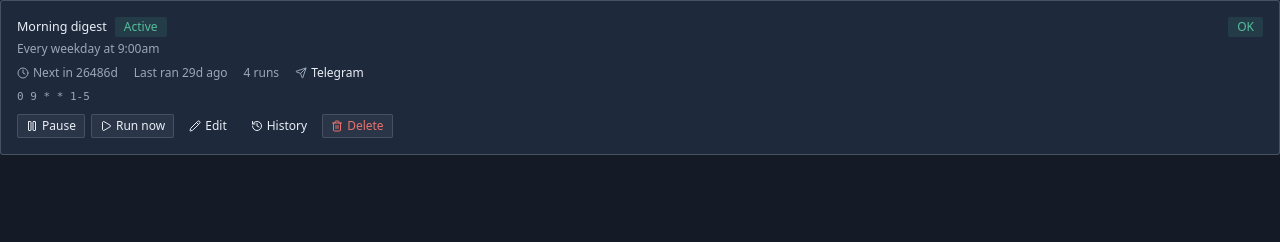
Test: JobCard run history disclosure › shows an error state when the runs fetch fails
Click the button with aria-label "Toggle run history".
click(279, 126)  # box [242,114,316,138]
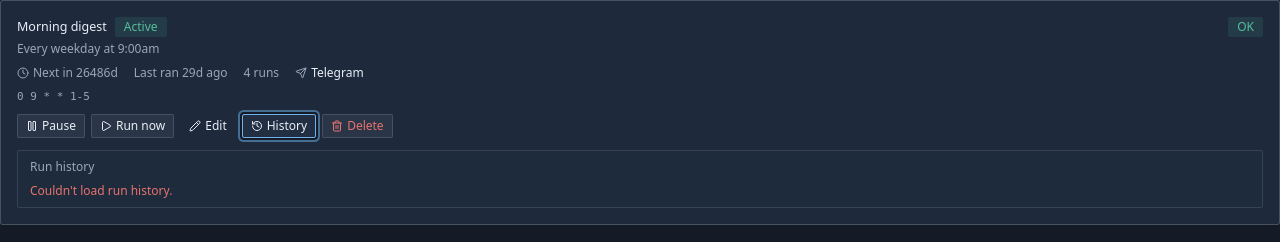
Now the text "Couldn't load run history." is shown, box [30,182,172,198]
